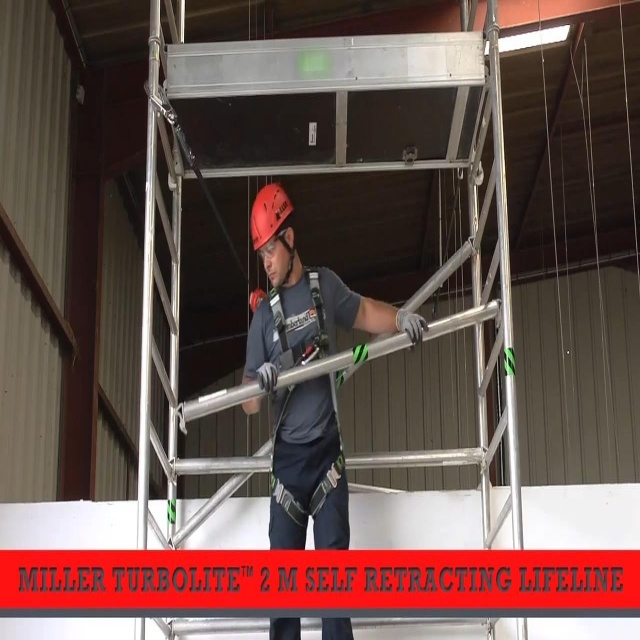Arnes_seguridad: (261, 280, 347, 526)
